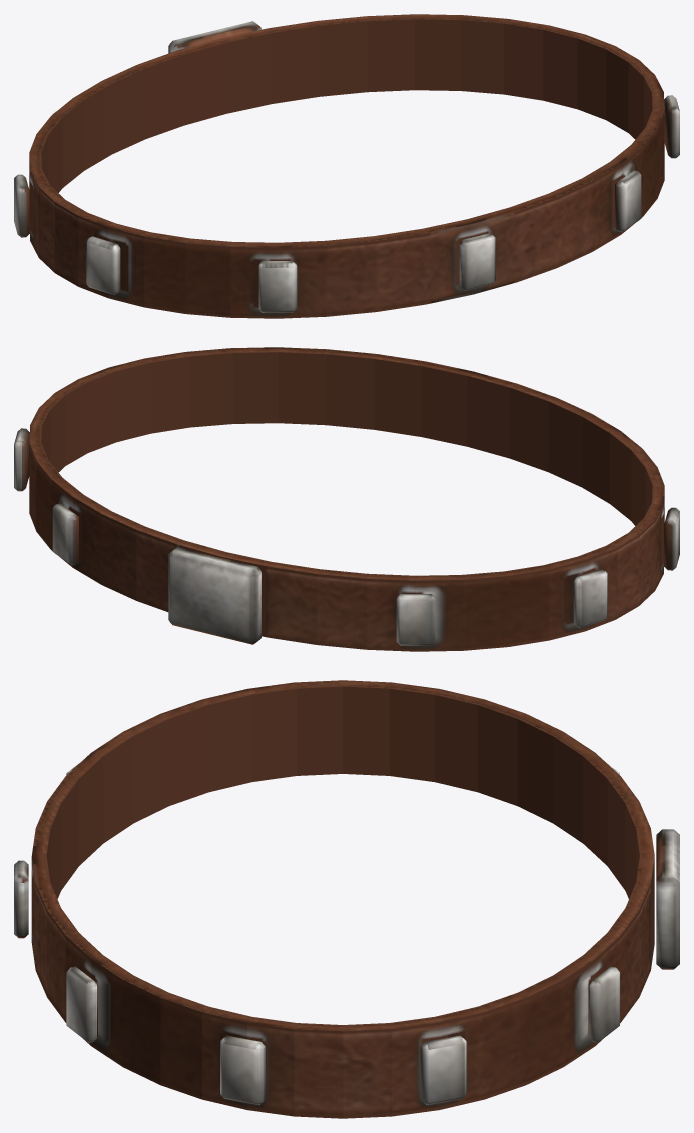
File: item_mm9_10151.glb
3 renders of one model, top to bottom at view 1: azimuth 30°, elevation 25°; view 2: azimuth 150°, elevation 25°; view 3: azimuth 270°, elevation 25°, orthographic. The views are drawn at different scales.
Visible parts, largest first — view 1: d10151; view 2: d10151; view 3: d10151.
Part boxes in pixels (x1,y1,x2,y2): d10151: (14,14,679,318); d10151: (14,347,679,651); d10151: (14,680,679,1118).
Bounding box in the file's own units: 61.2 × 7.39 × 48.64.
1 material, 1 textured.
